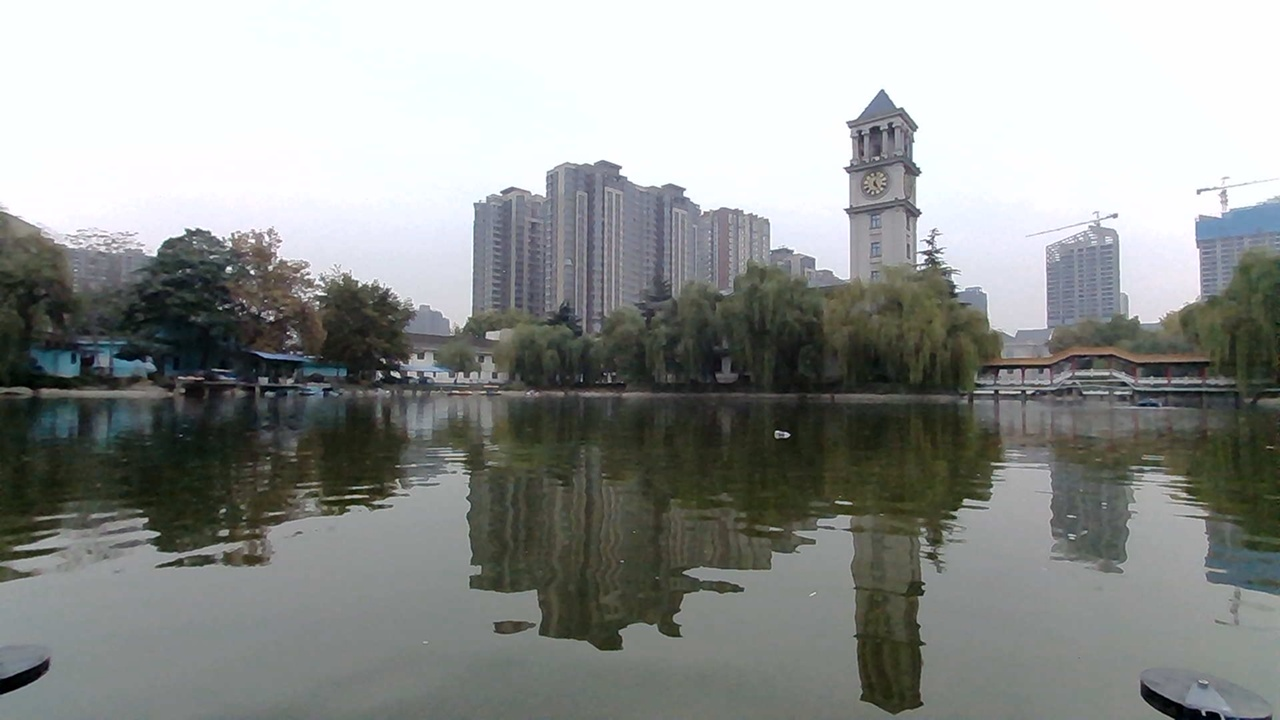bottle: (770, 417, 809, 447)
